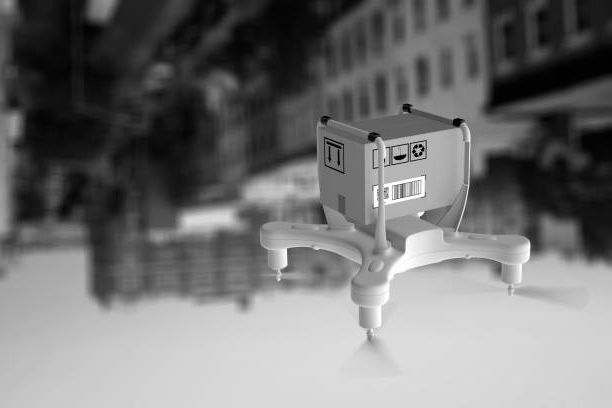Drone: (225, 211, 579, 371)
